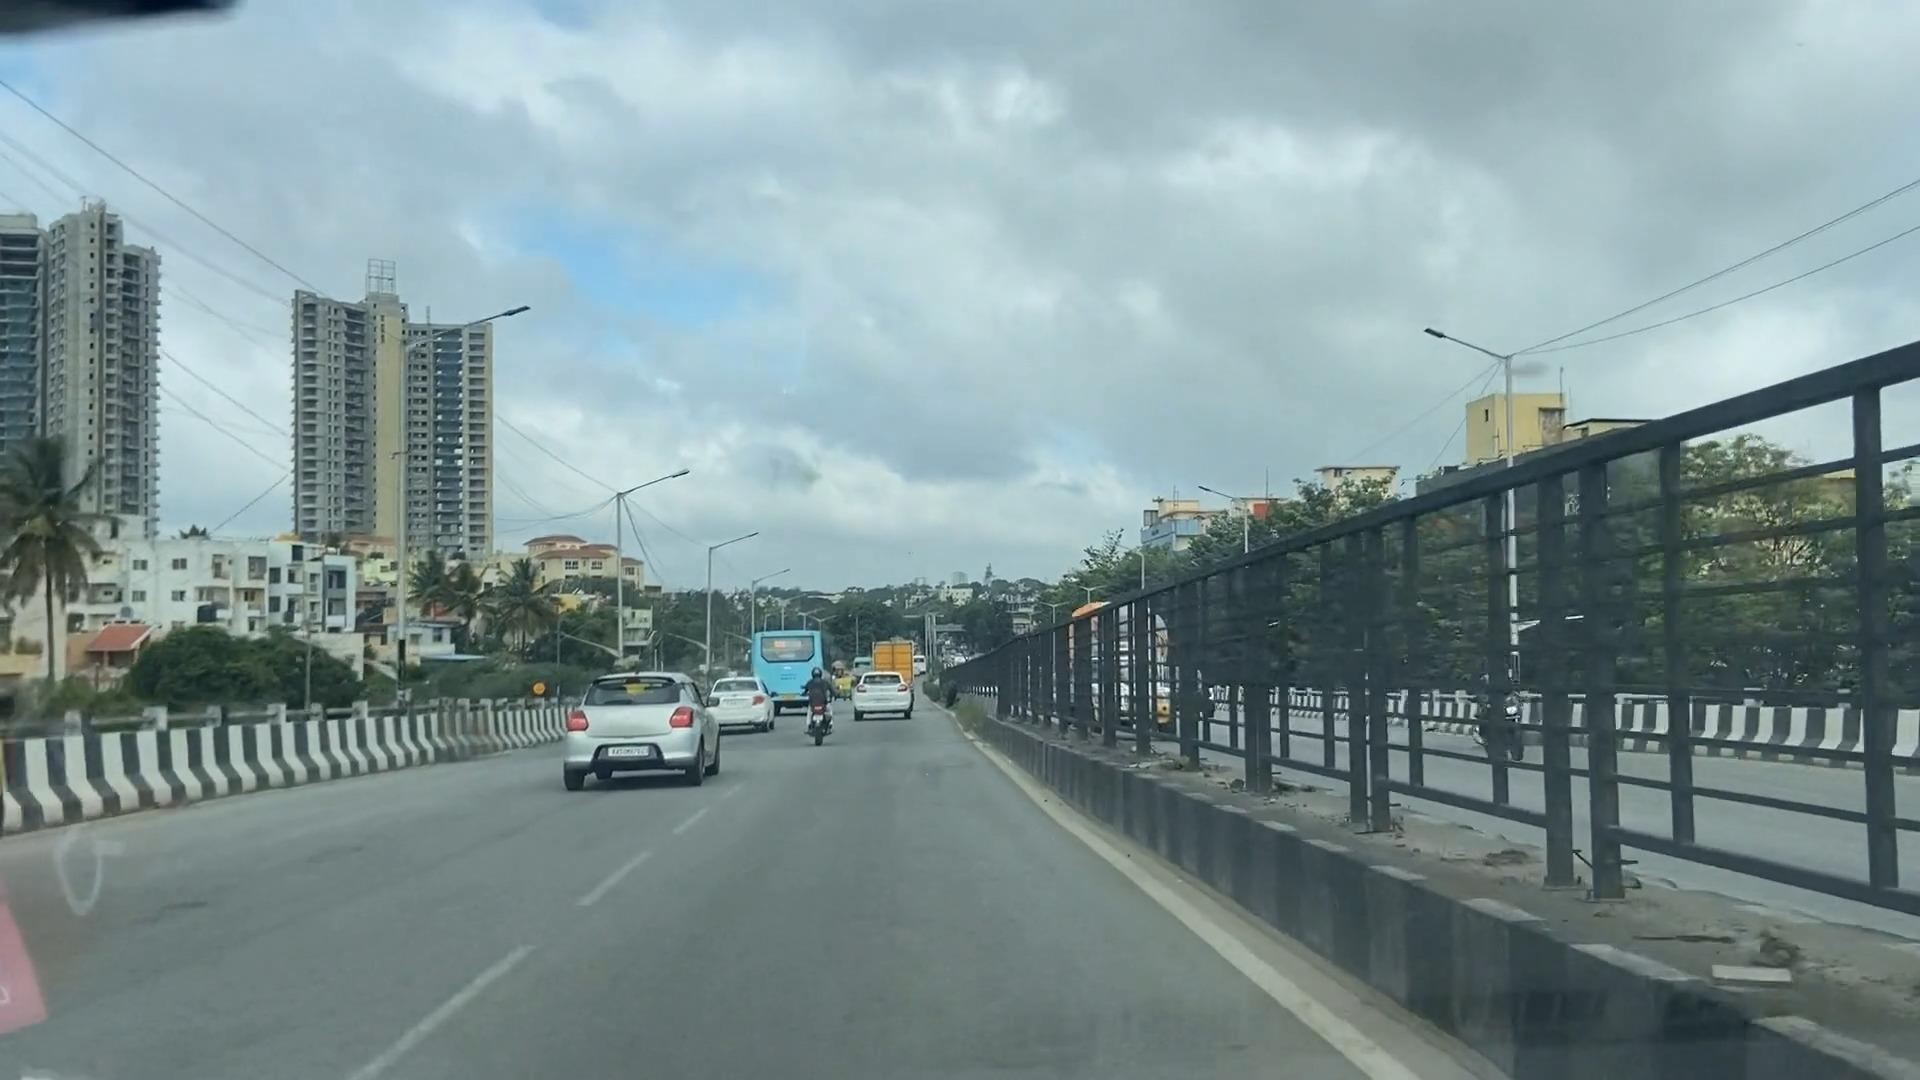HMV: (749, 609, 841, 738)
LMV: (560, 637, 732, 811), (779, 622, 862, 783), (843, 653, 927, 744), (703, 671, 779, 737)
